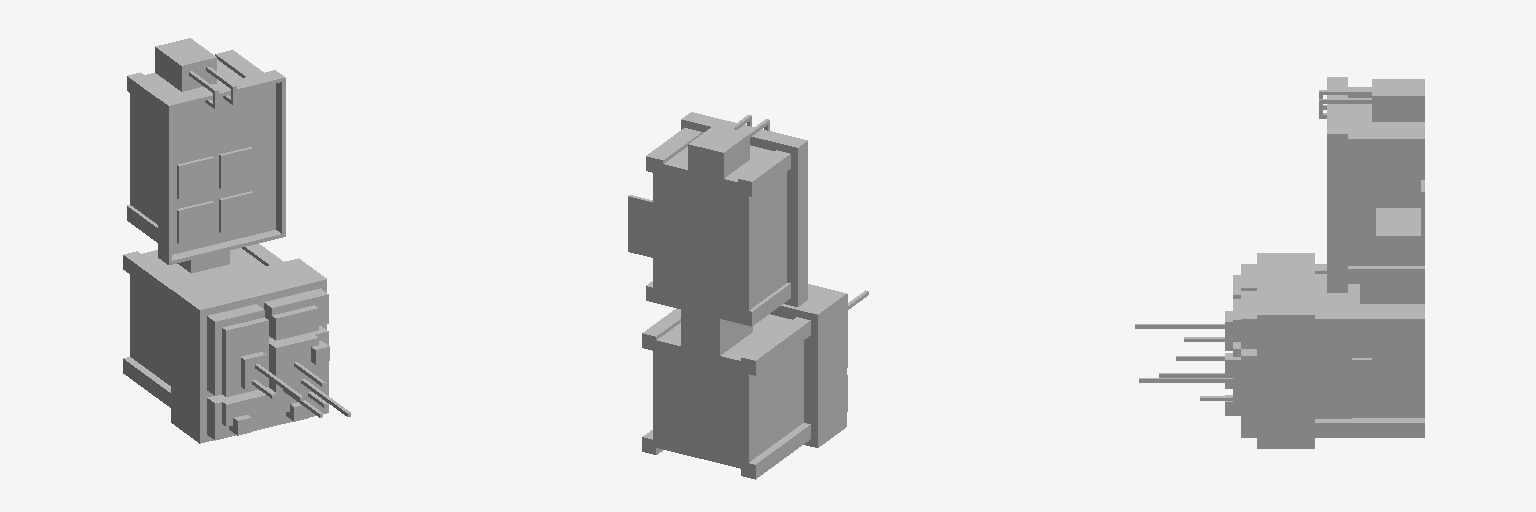
The model's file is research base.obj.
3 views of the same model, side by side, from view 1: azimuth 30°, elevation 25°; view 2: azimuth 150°, elevation 25°; view 3: azimuth 270°, elevation 25° (orthographic).
Size of the model in its own units: 38 by 88 by 71.